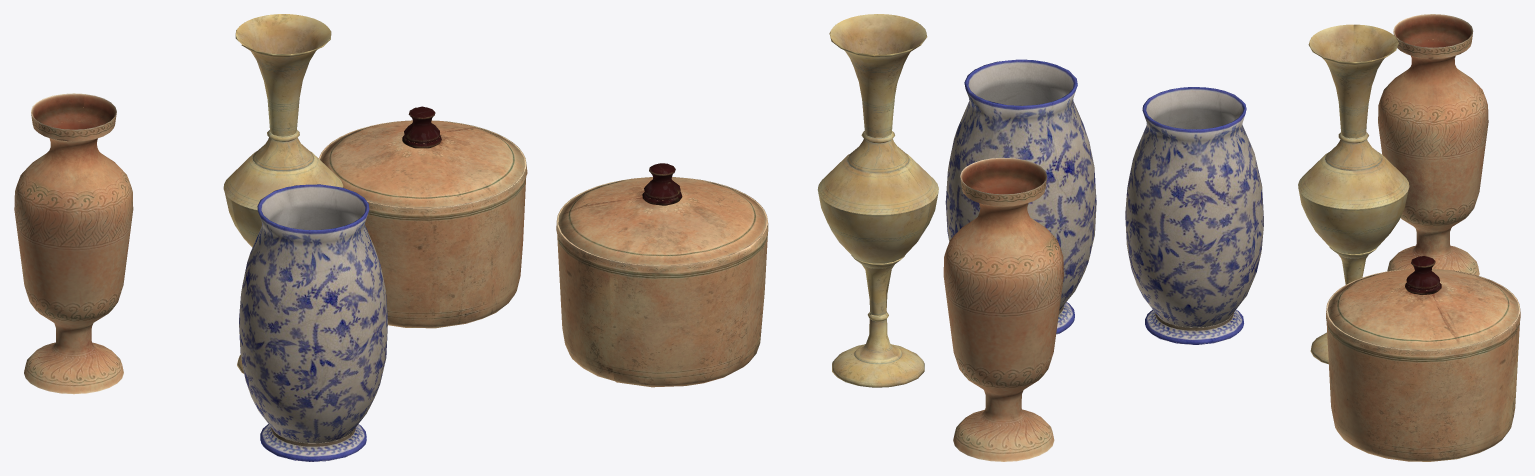
The model's file is prop_copper_jugs.glb.
The picture shows the model from 3 angles, left to right: view 1: azimuth 30°, elevation 25°; view 2: azimuth 150°, elevation 25°; view 3: azimuth 270°, elevation 25°; orthographic projection. The views are drawn at different scales.
Parts seen in each view (by area): view 1: Vessel_3_0, Vessel_2_0, Vessel_1_0, Vessel_0_0; view 2: Vessel_2_0, Vessel_1_0, Vessel_0_0, Vessel_3_0; view 3: Vessel_2_0, Vessel_3_0, Vessel_1_0, Vessel_0_0.
Part boxes in pixels (x1,y1,x2,y2): Vessel_3_0: [239, 184, 387, 461]; Vessel_2_0: [318, 106, 527, 328]; Vessel_1_0: [14, 93, 133, 394]; Vessel_0_0: [223, 14, 343, 373]; Vessel_2_0: [556, 163, 768, 387]; Vessel_1_0: [943, 157, 1063, 461]; Vessel_0_0: [817, 14, 938, 387]; Vessel_3_0: [945, 59, 1096, 334]; Vessel_2_0: [1326, 256, 1520, 461]; Vessel_3_0: [1125, 87, 1263, 344]; Vessel_1_0: [1378, 14, 1488, 275]; Vessel_0_0: [1298, 24, 1409, 364].
Size of the model in its own units: 1.05 by 0.6805 by 0.7954.
Materials: 4 (4 with a texture image).
